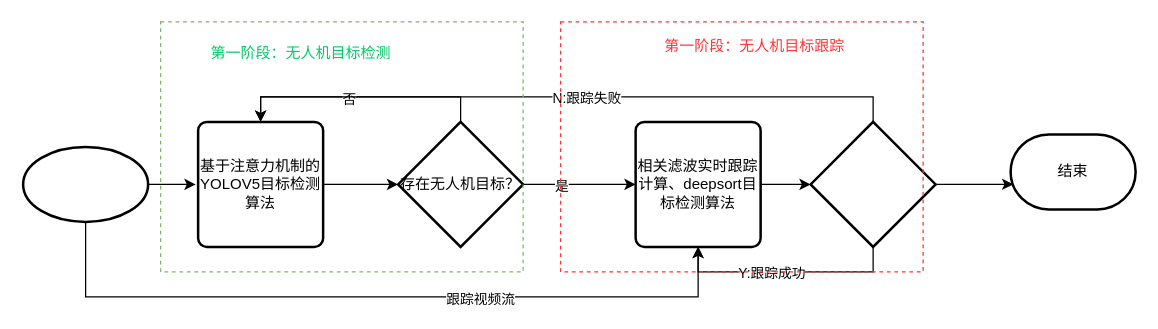
Image size: 1158x329. Some labels were removed from this diagram. Here are the shapes that lost their labels. From the top down, the centre of each, then its label:
the point at 85,183: 输入：实时视频流、图像
the point at 872,184: 跟踪目标丢失？
